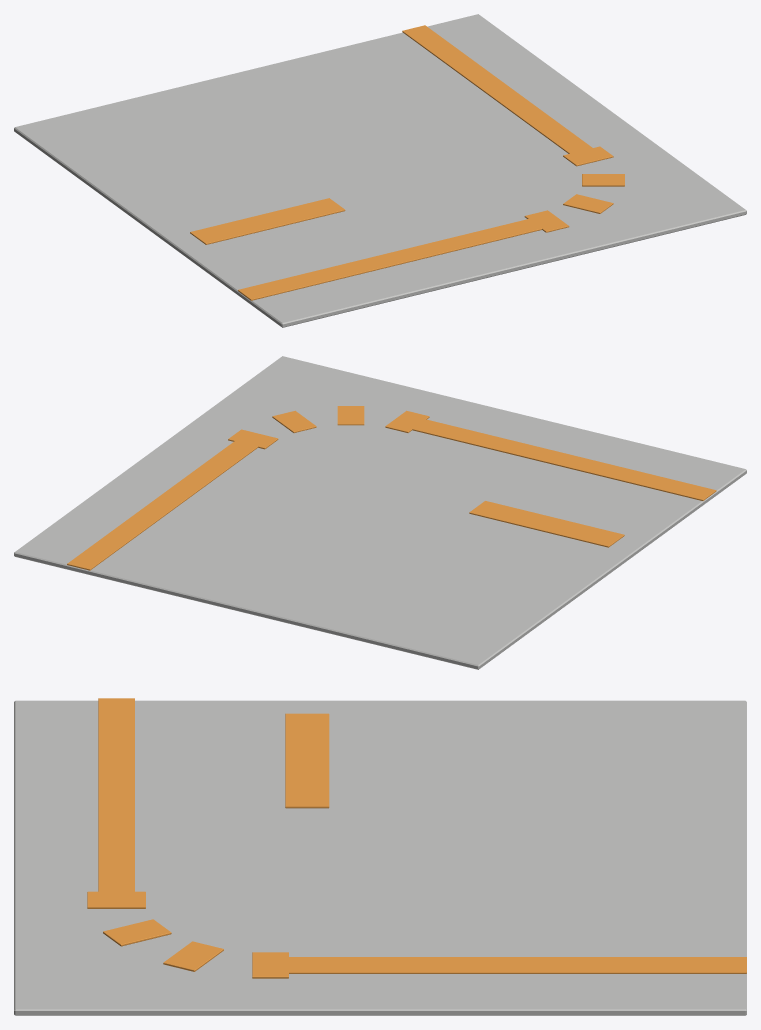
File: aisle-floor-marking-corner-tile.glb
3 views of the same model, one above another, from view 1: azimuth 30°, elevation 25°; view 2: azimuth 150°, elevation 25°; view 3: azimuth 270°, elevation 25° (orthographic). The views are drawn at different scales.
Visible parts, largest first — view 1: aisle-floor-marking-corner; view 2: aisle-floor-marking-corner; view 3: aisle-floor-marking-corner.
Part boxes in pixels (x1,y1,x2,y2): aisle-floor-marking-corner: [14, 14, 746, 327]; aisle-floor-marking-corner: [14, 356, 746, 669]; aisle-floor-marking-corner: [14, 698, 746, 1015].
Bounding box in the file's own units: 2 × 0.026 × 2.
